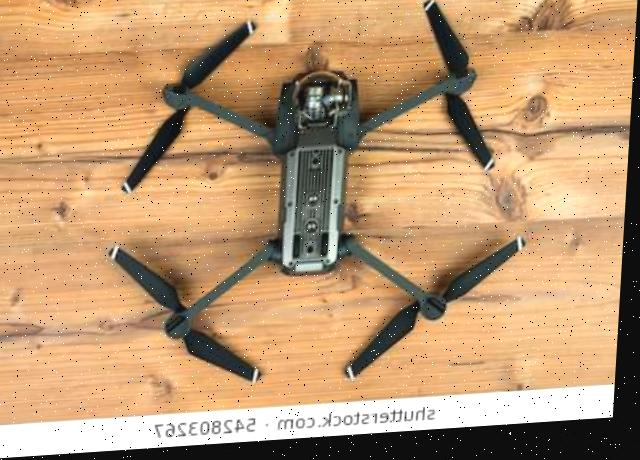drone: (0, 0, 639, 401)
